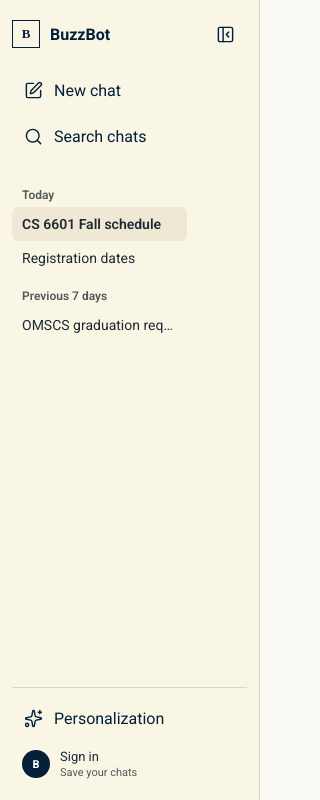
Sidebar › collapses history while preserving named primary actions
Expected: the button "CS 6601 Fall schedule" is shown, [12, 207, 187, 241]
Click the button named "Collapse sidebar" at (225, 34), box [203, 12, 247, 56]
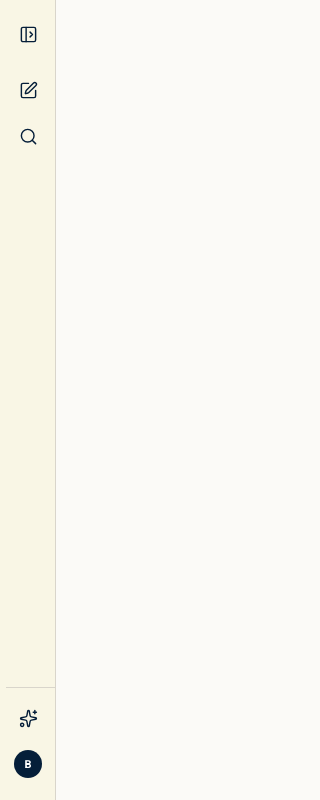
Expected: the button named "New chat" is shown, [6, 68, 50, 112]
Expected: the button "CS 6601 Fall schedule" is gone
Expected: the button named "Expand sidebar" is collapsed, [6, 12, 50, 56]
